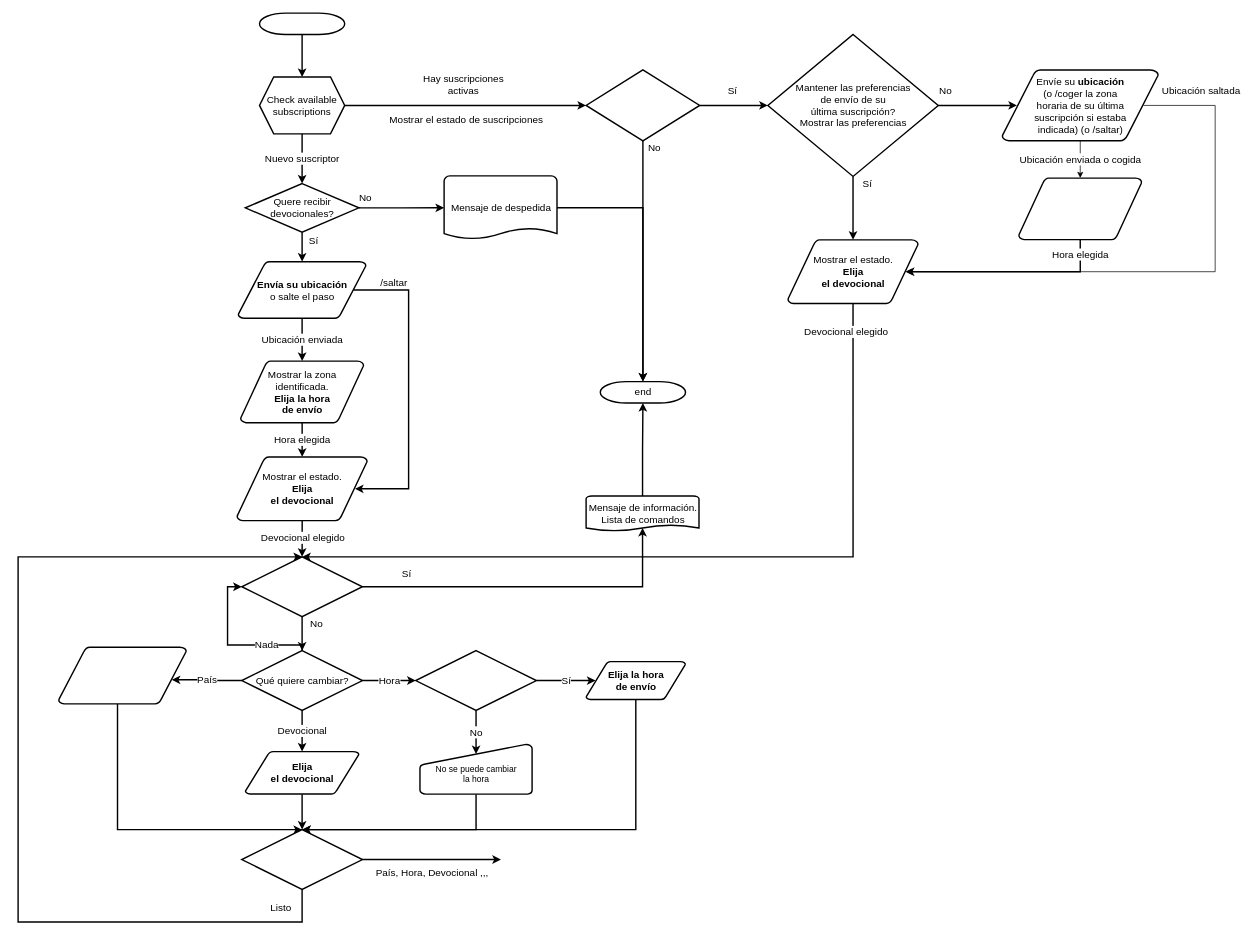
Image size: 1252x940. Some labels were removed from this diagram. The centre of each missing label's shape, as x and y in pixels:
/start: (x=301, y=23)
Envía su ubicación o elimine la actual: (x=122, y=675)
Está de acuerdo con los datos?: (x=302, y=586)
Había enviado la ubicación?: (x=476, y=680)
Mostrar el estado. Elija la hora de envío: (x=1080, y=208)
Quere hacer una nueva suscripción?: (x=642, y=105)
Quiere cambiar algo más?: (x=302, y=859)
